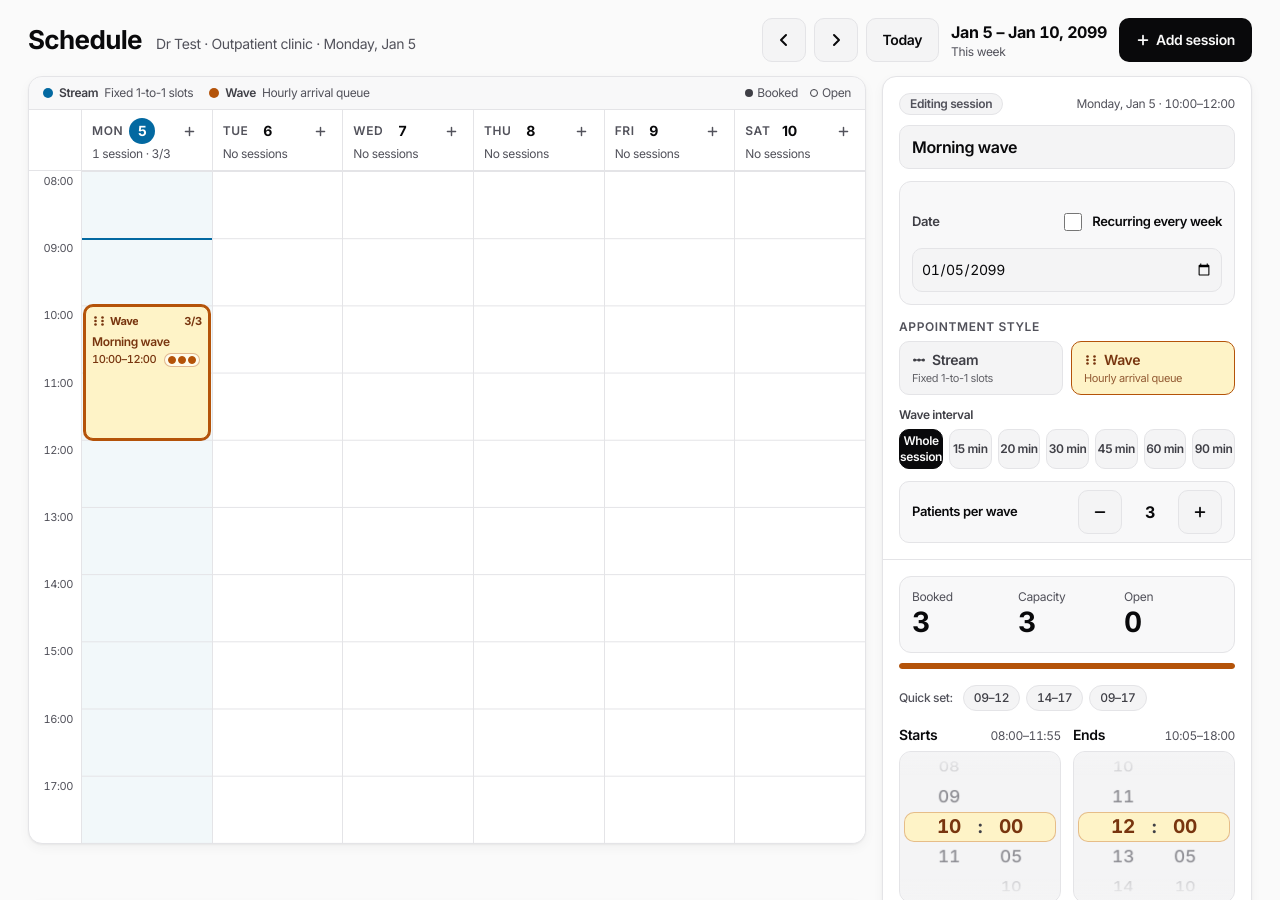
Test: DoctorSchedule › offers to notify the patient who no longer fits fewer places per wave
This screenshot has width=1280, height=900.
(page scrolled)
Click the button named "One fewer patient per wave".
click(1100, 512)  # box [1078, 490, 1122, 534]
(page scrolled)
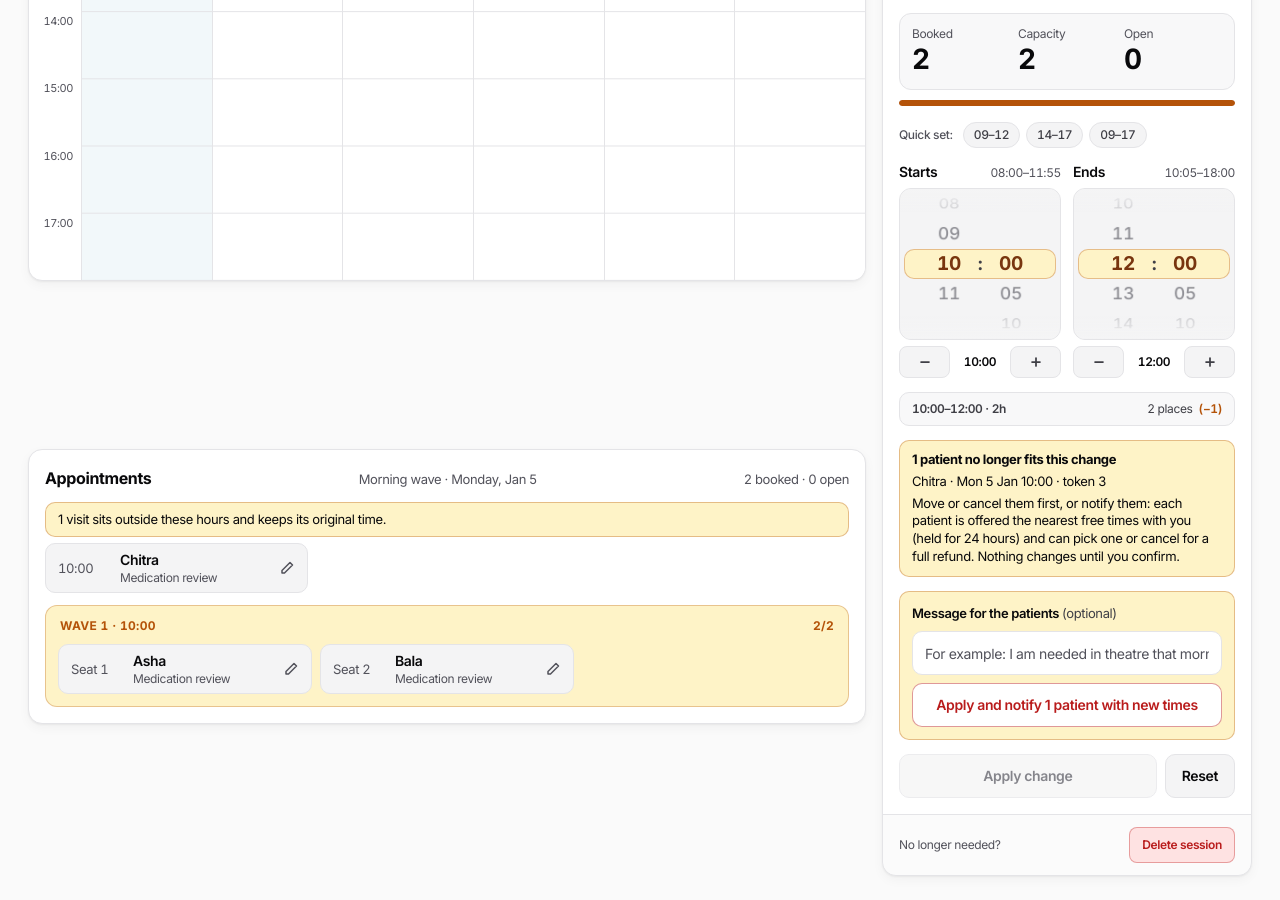
Now the text "1 patient no longer fits this change" is shown, box [912, 451, 1116, 467]
Now the text "Chitra · Mon 5 Jan 10:00 · token 3" is shown, box [912, 473, 1106, 489]
Now the button "Apply and notify 1 patient with new times" is enabled, box [912, 683, 1222, 727]
